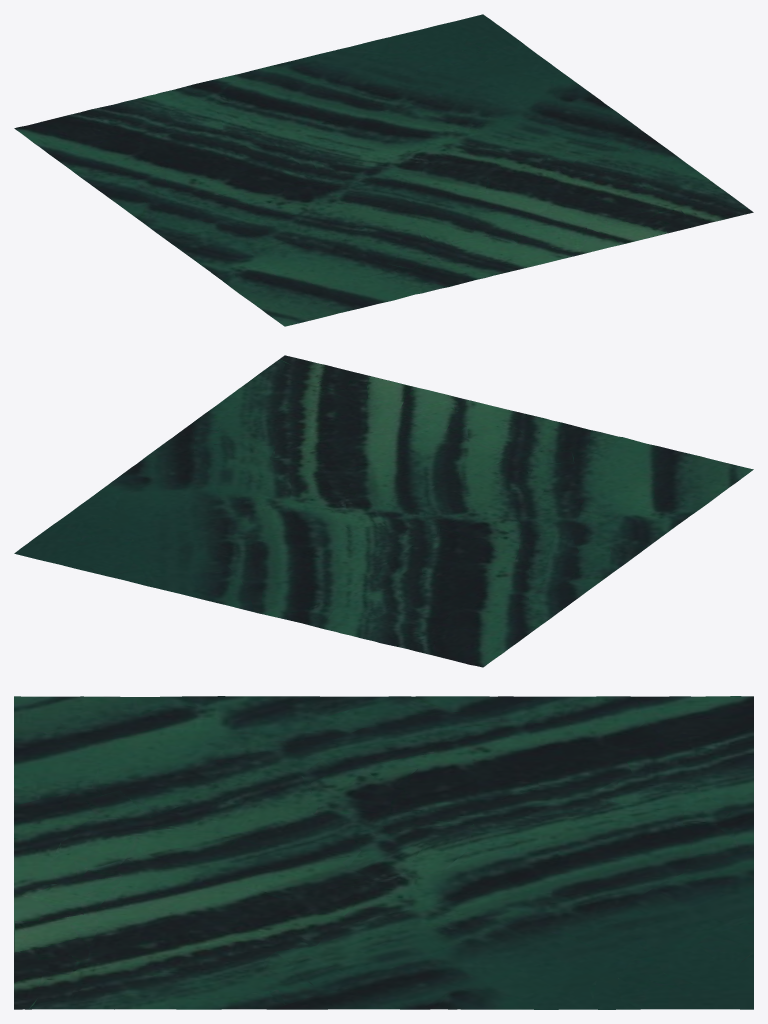
3 views of the same model, one above another, from view 1: azimuth 30°, elevation 25°; view 2: azimuth 150°, elevation 25°; view 3: azimuth 270°, elevation 25° (orthographic). The views are drawn at different scales.
Bounding box in the file's own units: 209 × 0.5163 × 209.
3 materials, 3 textured.
